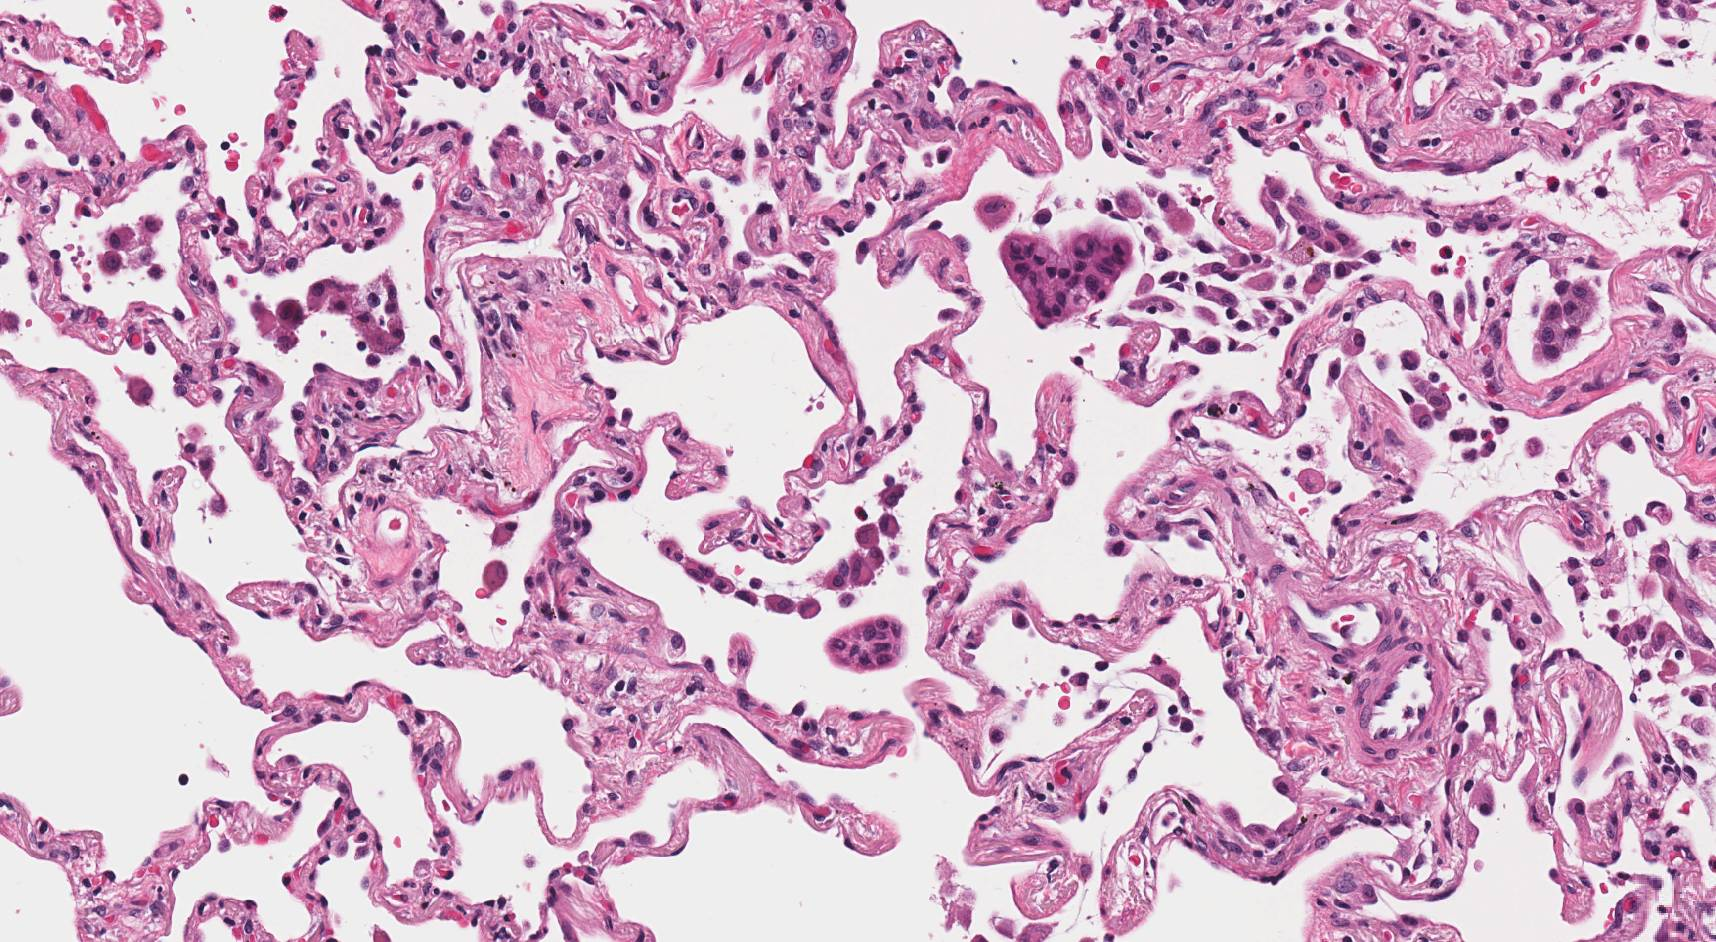stas: (999, 229, 1135, 329), (824, 615, 908, 672)
